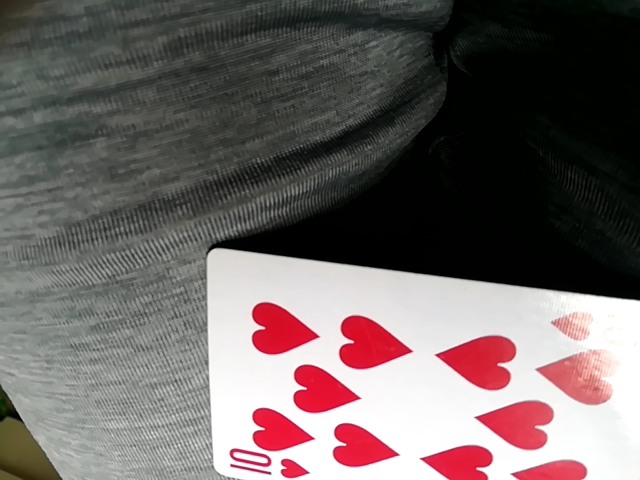hx 10: (193, 246, 637, 480)
